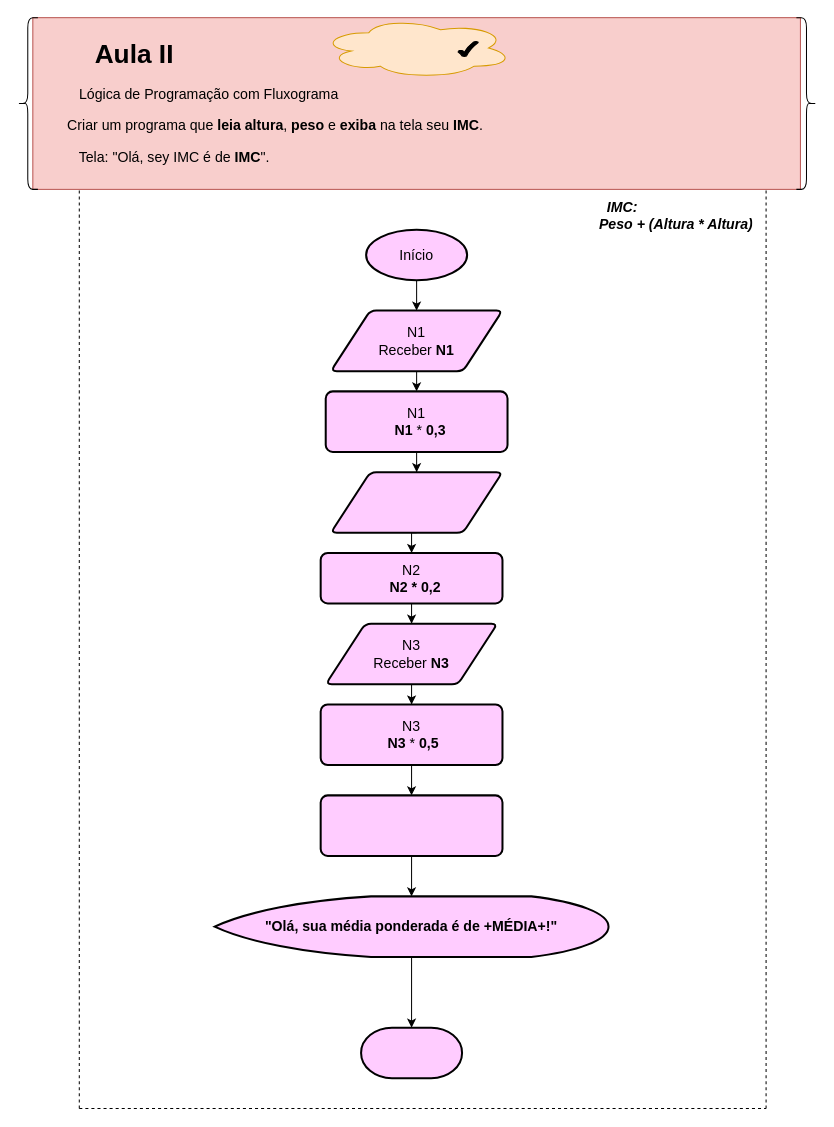
Image size: 834x1127. Some labels were removed from this diagram. Each missing label, with the box of its shape:
Fim: (360, 1026, 463, 1079)
MÉDIA = N1+N2+N3: (319, 794, 503, 856)
N2 Receber N2: (329, 471, 503, 533)
